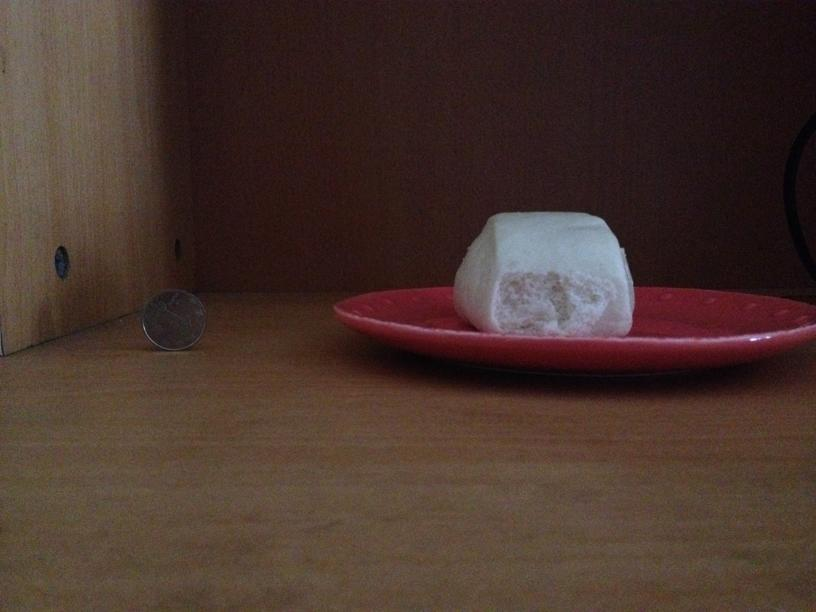bun: (457, 210, 636, 336)
coin: (138, 287, 210, 351)
